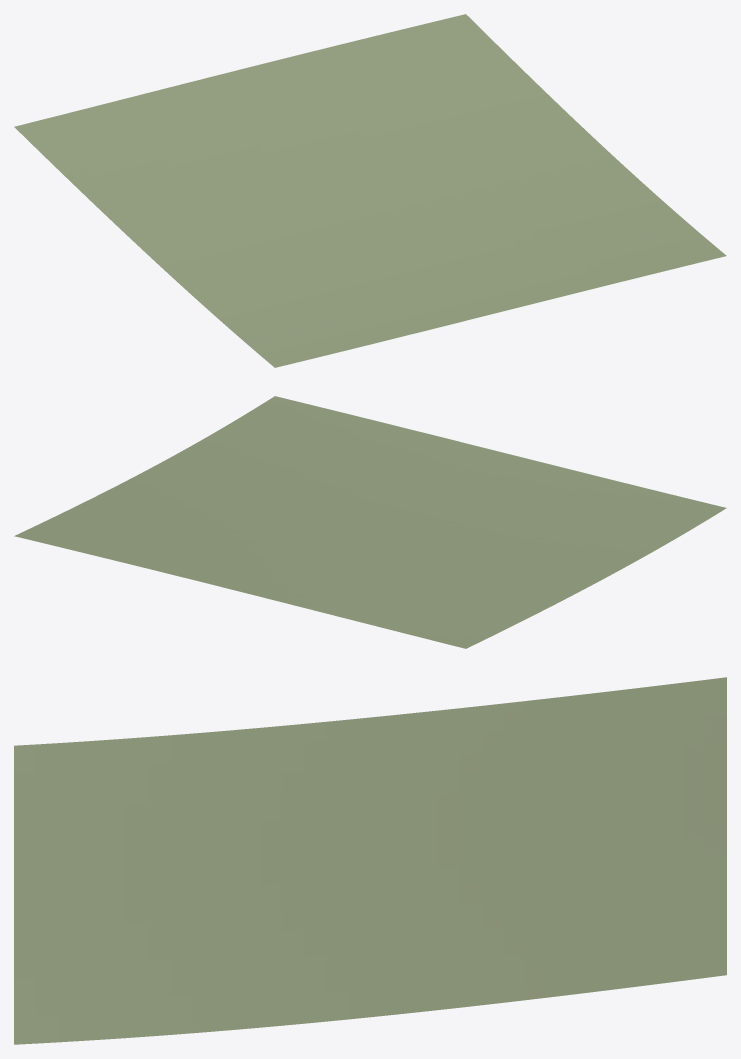
The model's file is desert-29-12.glb.
3 renders of one model, top to bottom at view 1: azimuth 30°, elevation 25°; view 2: azimuth 150°, elevation 25°; view 3: azimuth 270°, elevation 25°, orthographic. The views are drawn at different scales.
Visible parts, largest first — view 1: desert-29-12; view 2: desert-29-12; view 3: desert-29-12.
Part boxes in pixels (x1,y1,x2,y2): desert-29-12: [14, 14, 726, 367]; desert-29-12: [14, 396, 726, 648]; desert-29-12: [14, 677, 726, 1044].
Size of the model in its own units: 512 by 57.13 by 512.
